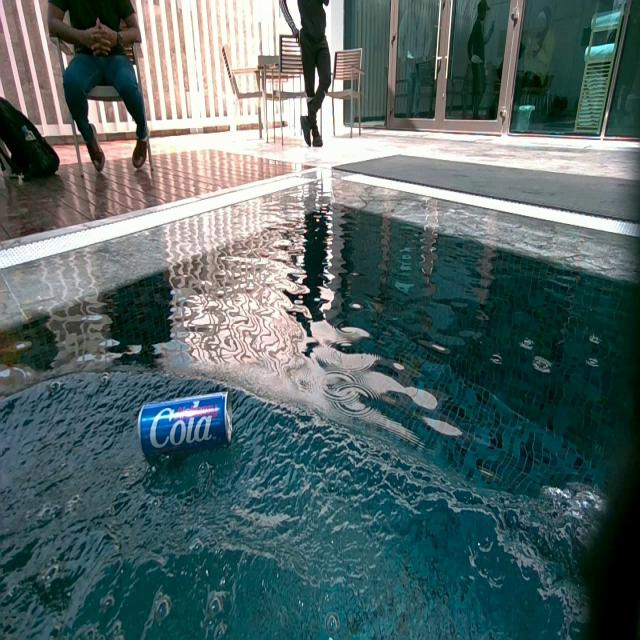Cans: (138, 389, 232, 458)
